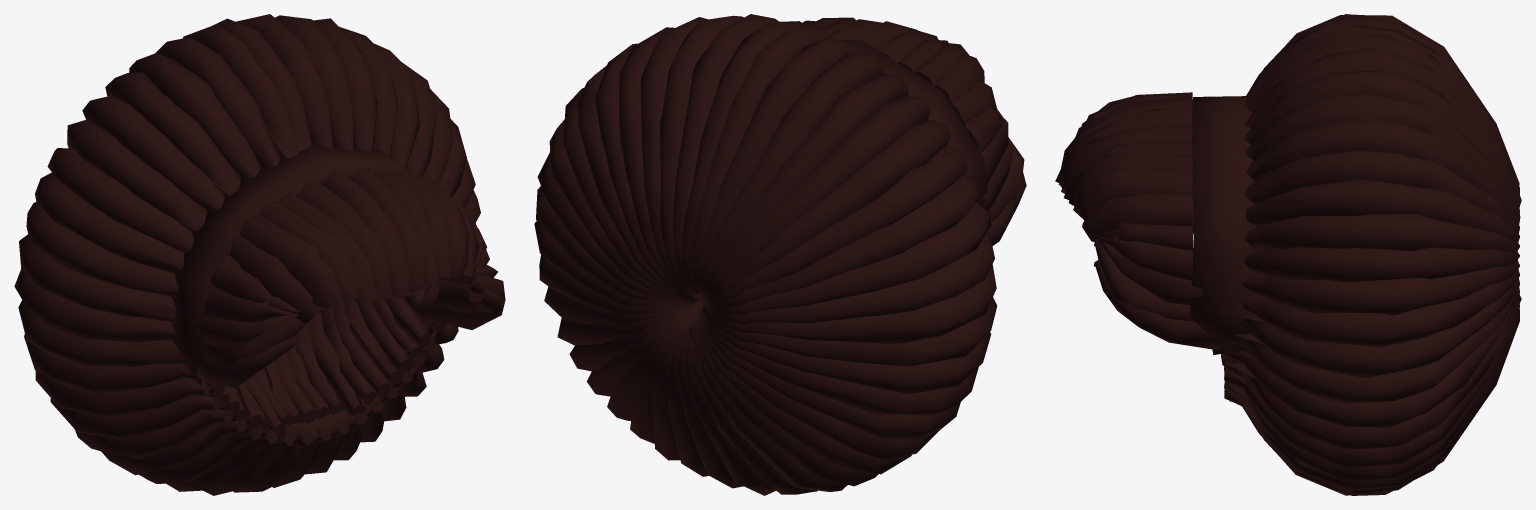
The model's file is hair-9-f7f0f05c.glb.
3 renders of one model, left to right at view 1: azimuth 30°, elevation 25°; view 2: azimuth 150°, elevation 25°; view 3: azimuth 270°, elevation 25°, orthographic. The views are drawn at different scales.
Parts seen in each view (by area): view 1: hair_9.001; view 2: hair_9.001; view 3: hair_9.001.
Boxes of the visible parts, x1=… form: hair_9.001: x1=14, y1=14, x2=505, y2=495; hair_9.001: x1=534, y1=14, x2=1026, y2=495; hair_9.001: x1=1055, y1=14, x2=1521, y2=495.
Size of the model in its own units: 2.73 by 2.73 by 2.63.
